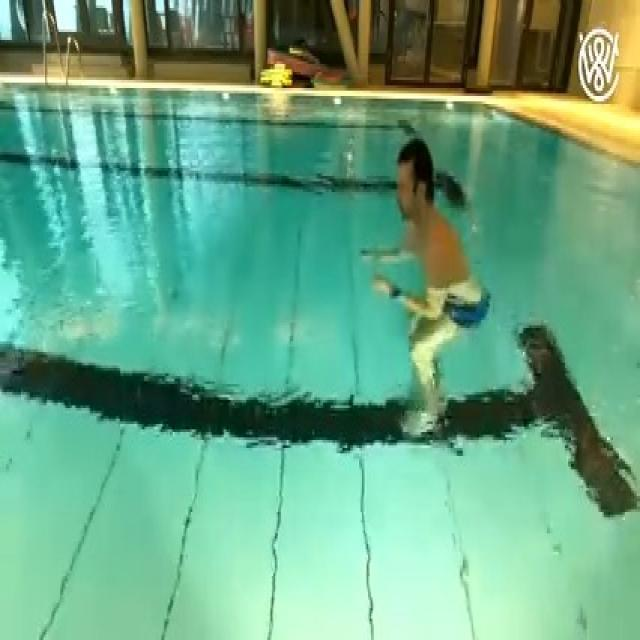Swimming: (362, 139, 489, 438)
